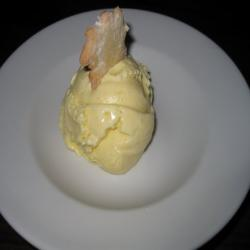icecream: (58, 18, 163, 185)
